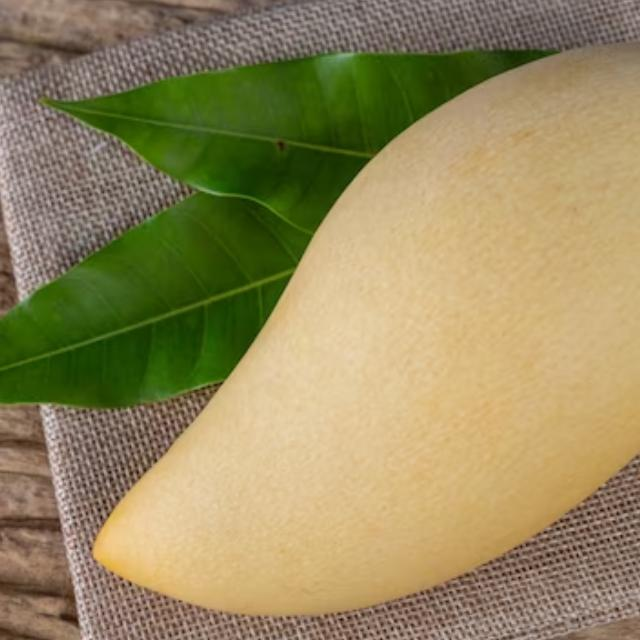mango: (89, 38, 640, 615)
